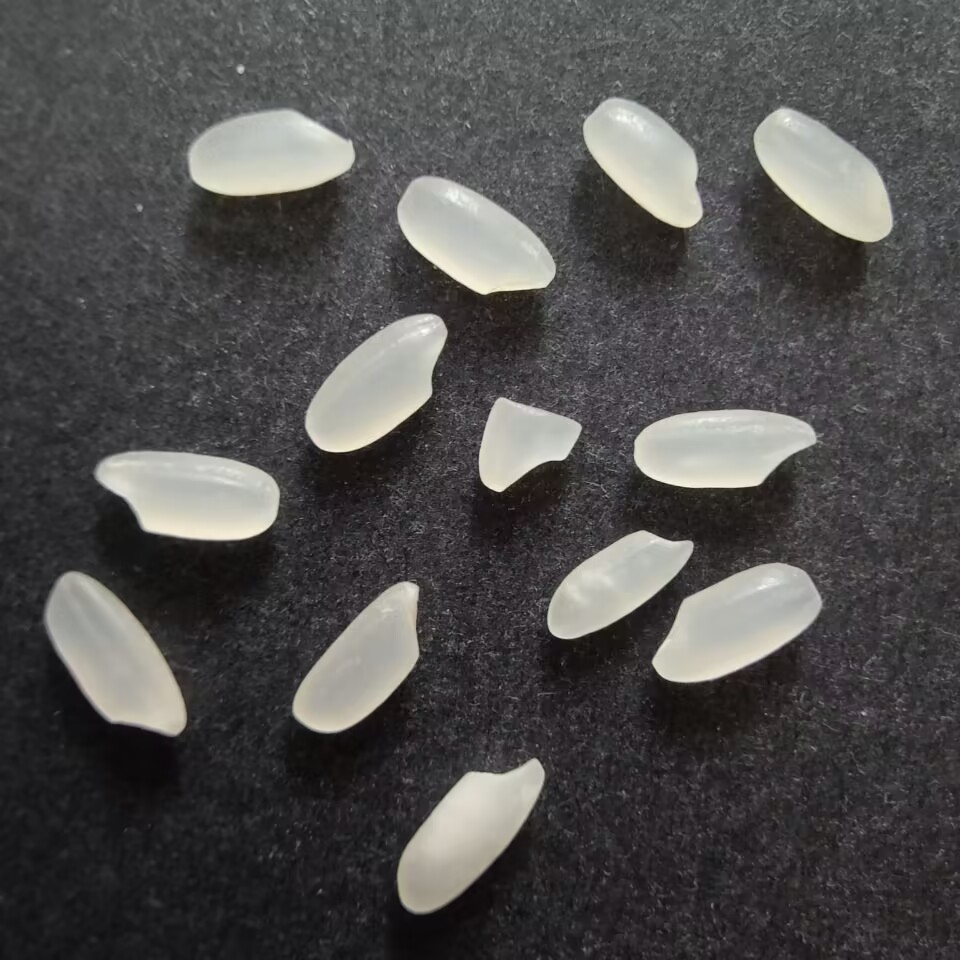broken: (471, 393, 589, 501)
rice: (394, 755, 549, 920), (42, 568, 189, 736), (650, 560, 825, 686), (392, 173, 562, 301), (302, 309, 449, 457), (288, 580, 423, 741), (749, 105, 898, 246), (87, 448, 286, 547), (543, 527, 697, 643), (581, 94, 708, 234), (183, 105, 359, 201), (629, 408, 818, 494)
